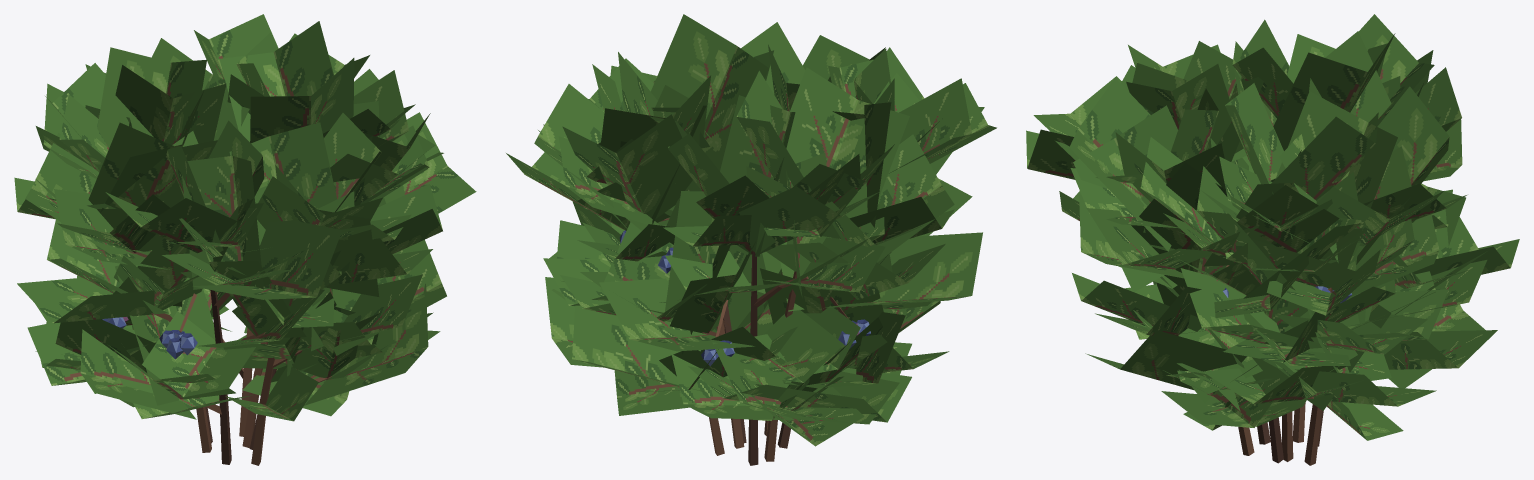
The model's file is blueberry_bush2.fbx.
The picture shows the model from 3 angles, left to right: view 1: azimuth 30°, elevation 25°; view 2: azimuth 150°, elevation 25°; view 3: azimuth 270°, elevation 25°; orthographic projection.
Parts seen in each view (by area): view 1: blueberry_bush2; view 2: blueberry_bush2; view 3: blueberry_bush2.
Boxes of the visible parts, bbox=[...] form: blueberry_bush2: bbox=[14, 14, 476, 465]; blueberry_bush2: bbox=[506, 14, 996, 465]; blueberry_bush2: bbox=[1026, 14, 1519, 465].
Size of the model in its own units: 87.86 by 79.41 by 90.
